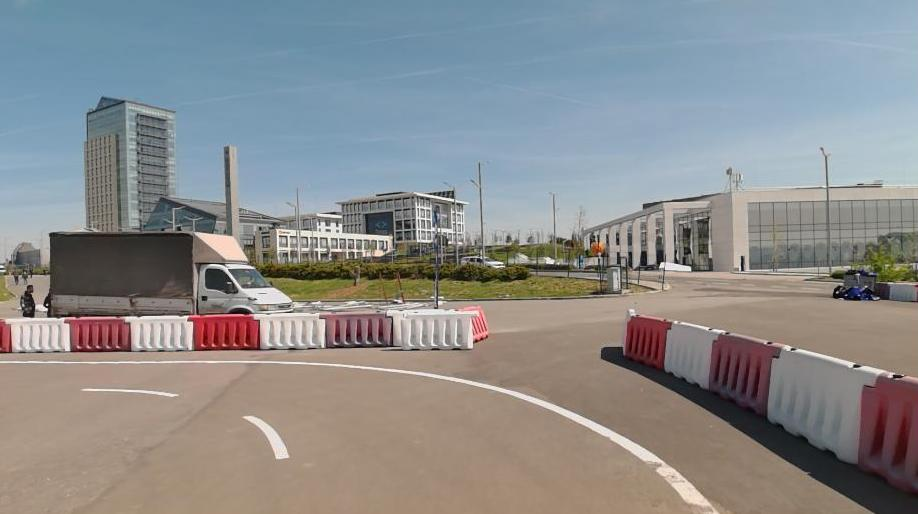nesne: (0, 358, 717, 512), (0, 360, 718, 513), (0, 359, 717, 512), (2, 385, 301, 513), (47, 231, 296, 315), (768, 343, 880, 460), (856, 371, 917, 493), (708, 330, 778, 411), (388, 307, 477, 348), (664, 320, 718, 386), (254, 312, 327, 351), (321, 309, 392, 347), (191, 314, 259, 350), (126, 315, 192, 350), (4, 317, 71, 350), (626, 314, 672, 362), (66, 317, 131, 350), (243, 415, 289, 458), (82, 387, 178, 398), (469, 305, 490, 339), (17, 282, 38, 315)
